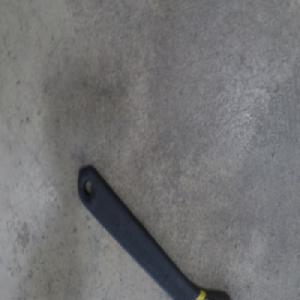AdjustableWrench: (79, 169, 235, 300)
